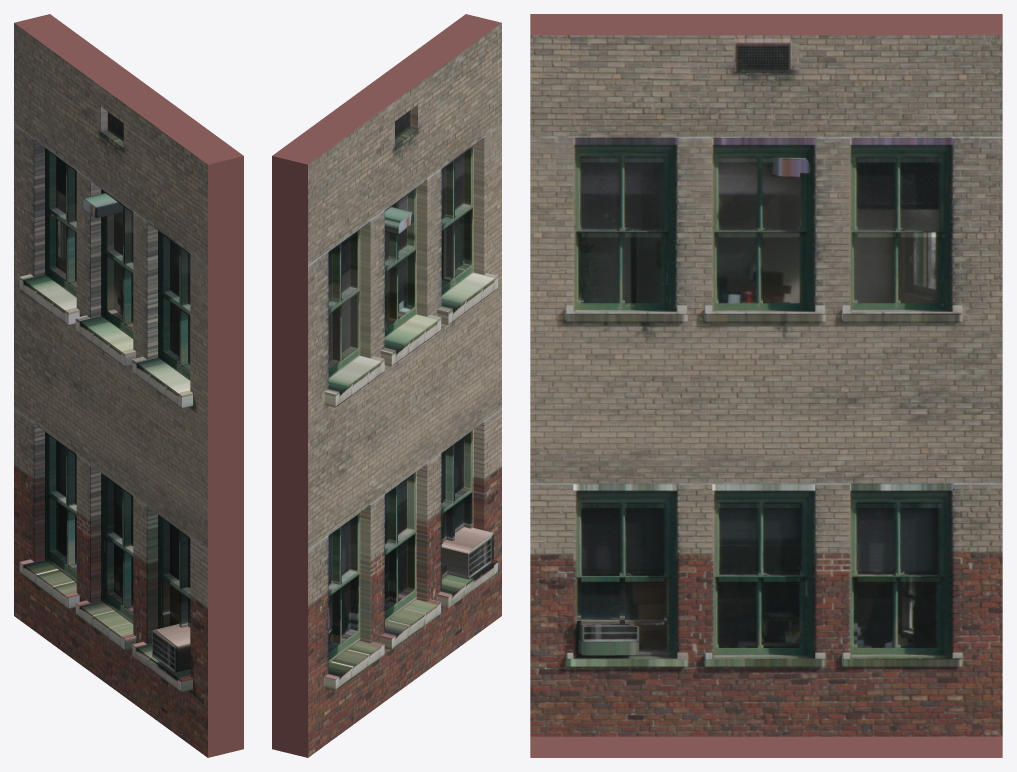
Rendered from facade5.fbx.
The picture shows the model from 3 angles, left to right: view 1: azimuth 30°, elevation 25°; view 2: azimuth 150°, elevation 25°; view 3: azimuth 270°, elevation 25°; orthographic projection. The views are drawn at different scales.
Parts seen in each view (by area): view 1: facade5; view 2: facade5; view 3: facade5.
Boxes of the visible parts, <box> form: facade5: <box>14,14,243,757</box>; facade5: <box>272,14,501,757</box>; facade5: <box>530,14,1002,757</box>.
Size of the model in its own units: 2.93 by 35.3 by 20.91.
2 materials, 2 textured.
